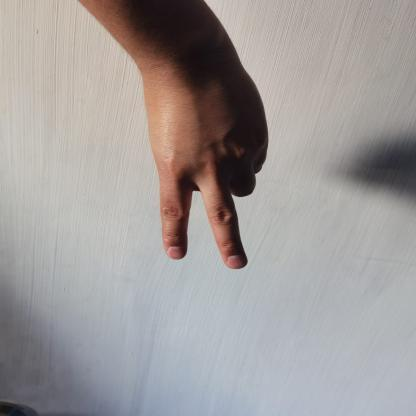N: (136, 52, 287, 282)
